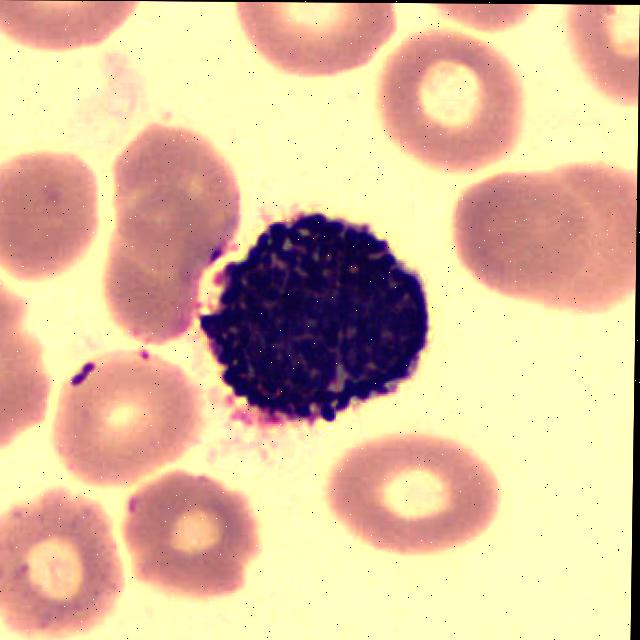basophil: (199, 199, 440, 434)
rbc: (309, 435, 520, 565), (527, 100, 639, 328), (375, 21, 532, 180), (451, 153, 603, 303), (56, 340, 207, 485), (120, 471, 263, 613), (116, 125, 246, 280), (0, 484, 124, 640), (222, 2, 406, 89), (0, 142, 104, 292), (97, 230, 204, 348), (0, 0, 139, 74), (118, 181, 222, 276), (0, 284, 51, 470), (560, 4, 640, 119), (408, 3, 543, 52)
